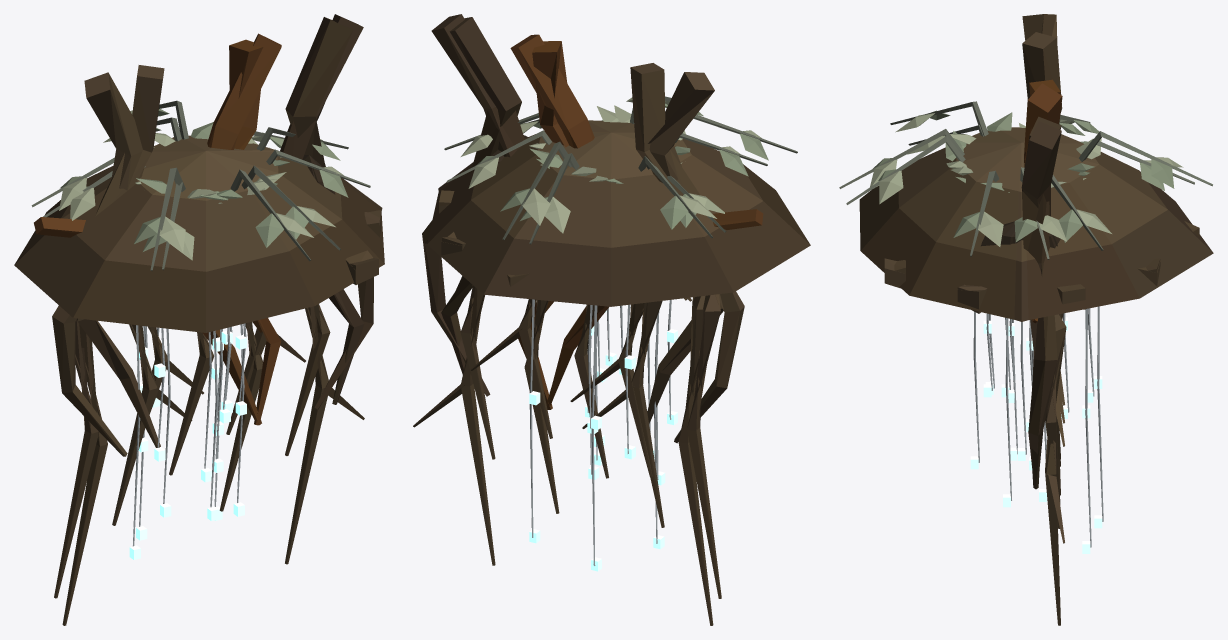
File: roots.glb
3 views of the same model, side by side, from view 1: azimuth 30°, elevation 25°; view 2: azimuth 150°, elevation 25°; view 3: azimuth 270°, elevation 25° (orthographic). The views are drawn at different scales.
Parts seen in each view (by area): view 1: roots_burrow_mound_b, roots_root_web_b, roots_root_web_a, roots_root_drape_b, roots_root_drape_a, roots_cave_fern_a, roots_cave_fern_b, roots_glowworm_threads_b, roots_glowworm_threads_a, roots_burrow_mound_a; view 2: roots_burrow_mound_b, roots_root_web_b, roots_root_web_a, roots_root_drape_b, roots_root_drape_a, roots_cave_fern_a, roots_cave_fern_b, roots_glowworm_threads_b, roots_glowworm_threads_a; view 3: roots_burrow_mound_b, roots_root_web_b, roots_cave_fern_a, roots_cave_fern_b, roots_root_web_a, roots_glowworm_threads_b, roots_glowworm_threads_a, roots_root_drape_a, roots_burrow_mound_a, roots_root_drape_b.
Part boxes in pixels (x1,y1,x2,y2): roots_burrow_mound_b: (14,135,384,332); roots_root_web_b: (76,17,373,447); roots_root_web_a: (34,14,364,456); roots_root_drape_b: (54,304,330,598); roots_root_drape_a: (62,306,364,625); roots_cave_fern_a: (31,100,348,271); roots_cave_fern_b: (43,117,370,270); roots_glowworm_threads_b: (129,323,246,559); roots_glowworm_threads_a: (138,326,232,520); roots_burrow_mound_a: (214,149,382,282); roots_burrow_mound_b: (427,120,810,306); roots_root_web_b: (422,17,723,423); roots_root_web_a: (431,14,763,443); roots_root_drape_b: (460,285,721,598); roots_root_drape_a: (413,287,713,625); roots_cave_fern_a: (444,97,797,239); roots_cave_fern_b: (446,96,767,244); roots_glowworm_threads_b: (585,300,677,571); roots_glowworm_threads_a: (529,299,665,543); roots_burrow_mound_b: (859,127,1213,319); roots_root_web_b: (1021,32,1062,466); roots_cave_fern_a: (846,101,1212,259); roots_cave_fern_b: (839,123,1194,256); roots_root_web_a: (1022,14,1061,489); roots_glowworm_threads_b: (970,306,1103,528); roots_glowworm_threads_a: (985,308,1094,553); roots_root_drape_a: (1045,313,1066,625); roots_burrow_mound_a: (885,143,1160,321); roots_root_drape_b: (1045,313,1066,519).
Bounding box in the file's own units: 0.8769 × 1.32 × 0.8451.
